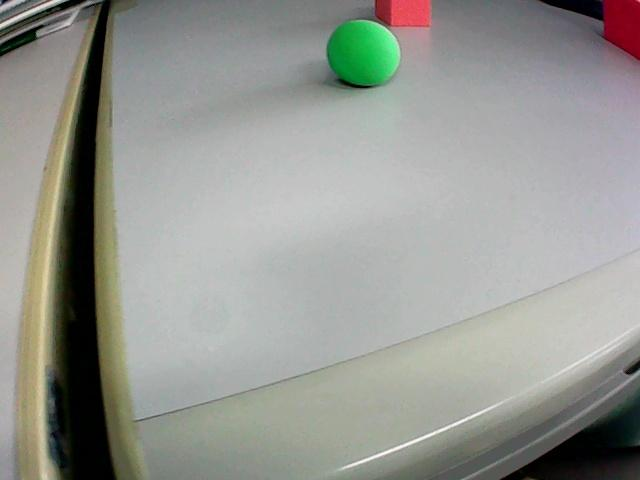red_block: (603, 0, 639, 58), (375, 0, 430, 26)
